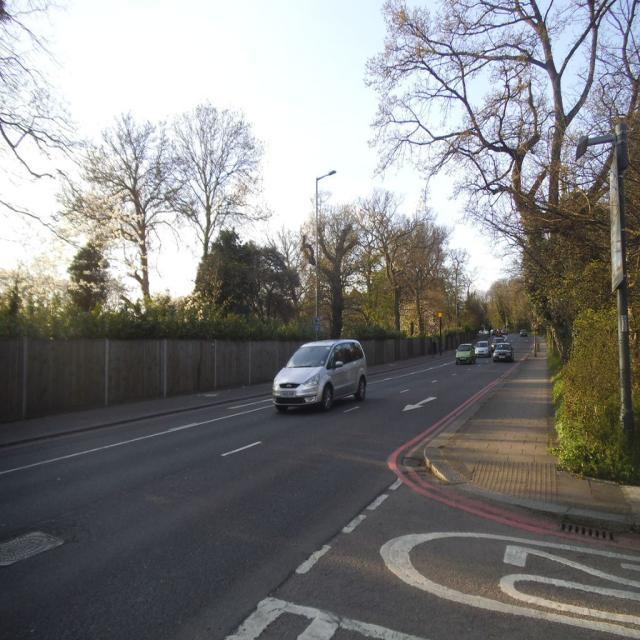car: (268, 335, 372, 416), (451, 339, 474, 368), (490, 342, 507, 366), (517, 325, 527, 333)
